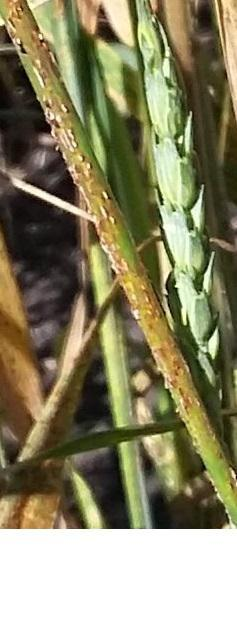Sugarcane: (18, 19, 201, 420)
